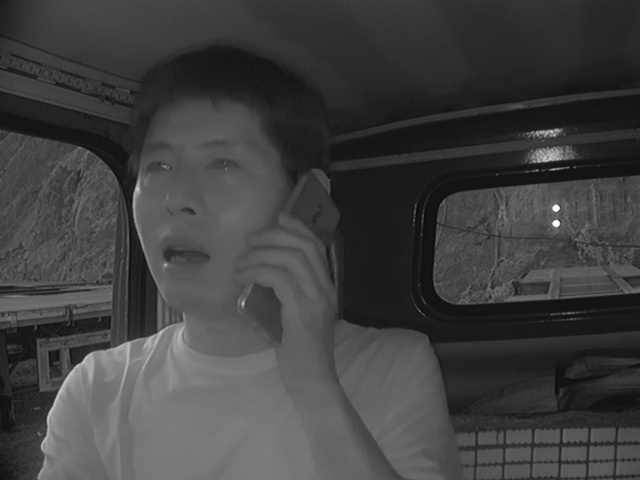hand: (235, 215, 346, 373)
